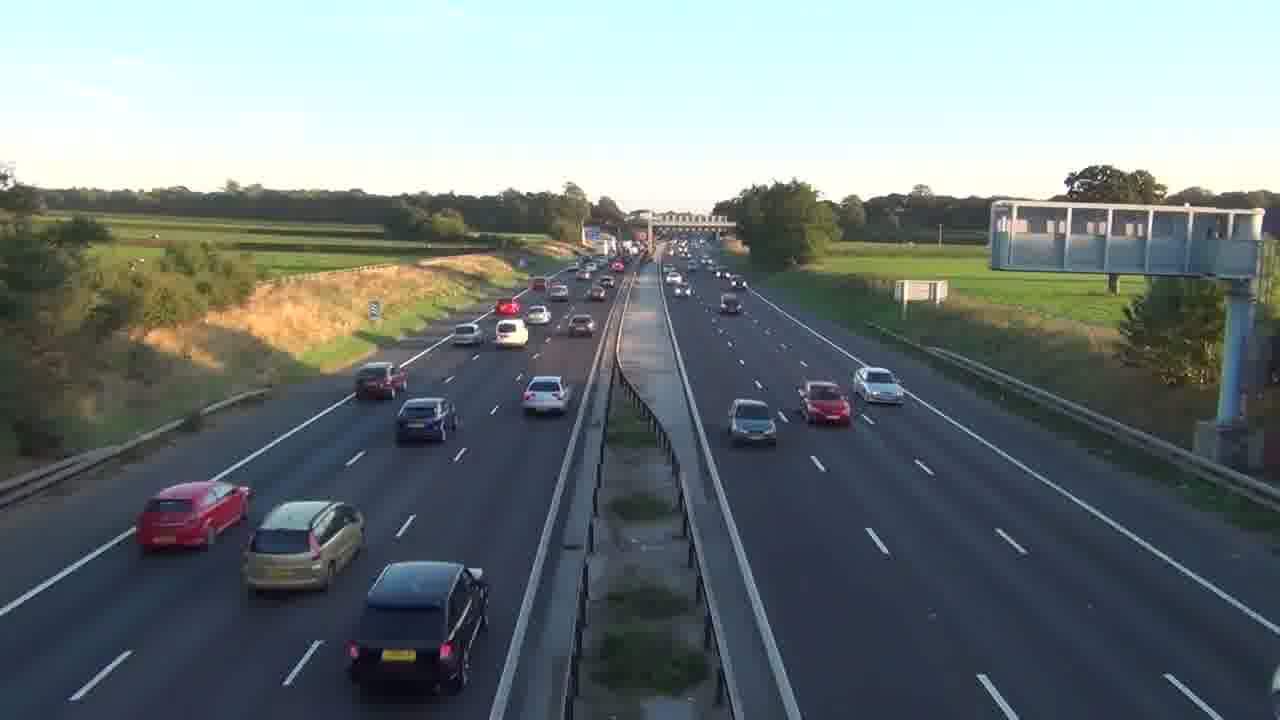car: (344, 559, 491, 696), (240, 497, 368, 597), (394, 396, 456, 444), (726, 398, 779, 447), (797, 380, 852, 427), (851, 366, 905, 407), (521, 375, 568, 417)
truck: (135, 479, 253, 555)
